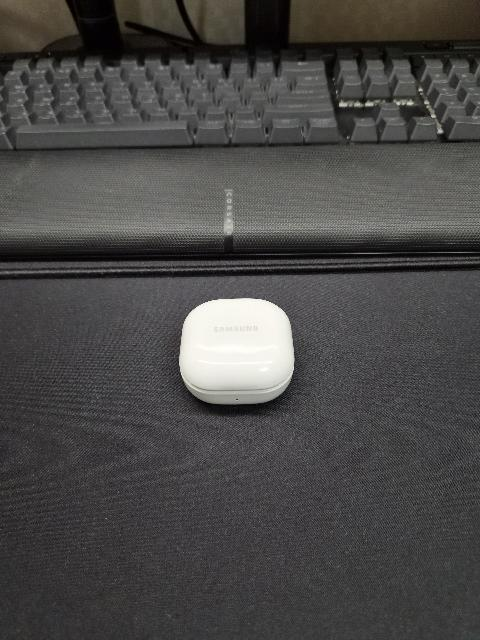earphone_case: (179, 298, 294, 405)
